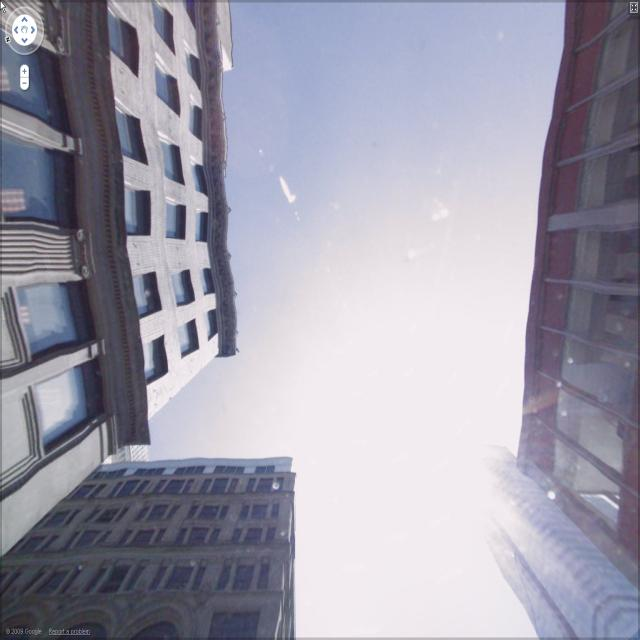b_1: (3, 2, 247, 455), (515, 2, 640, 620), (38, 450, 317, 640)
